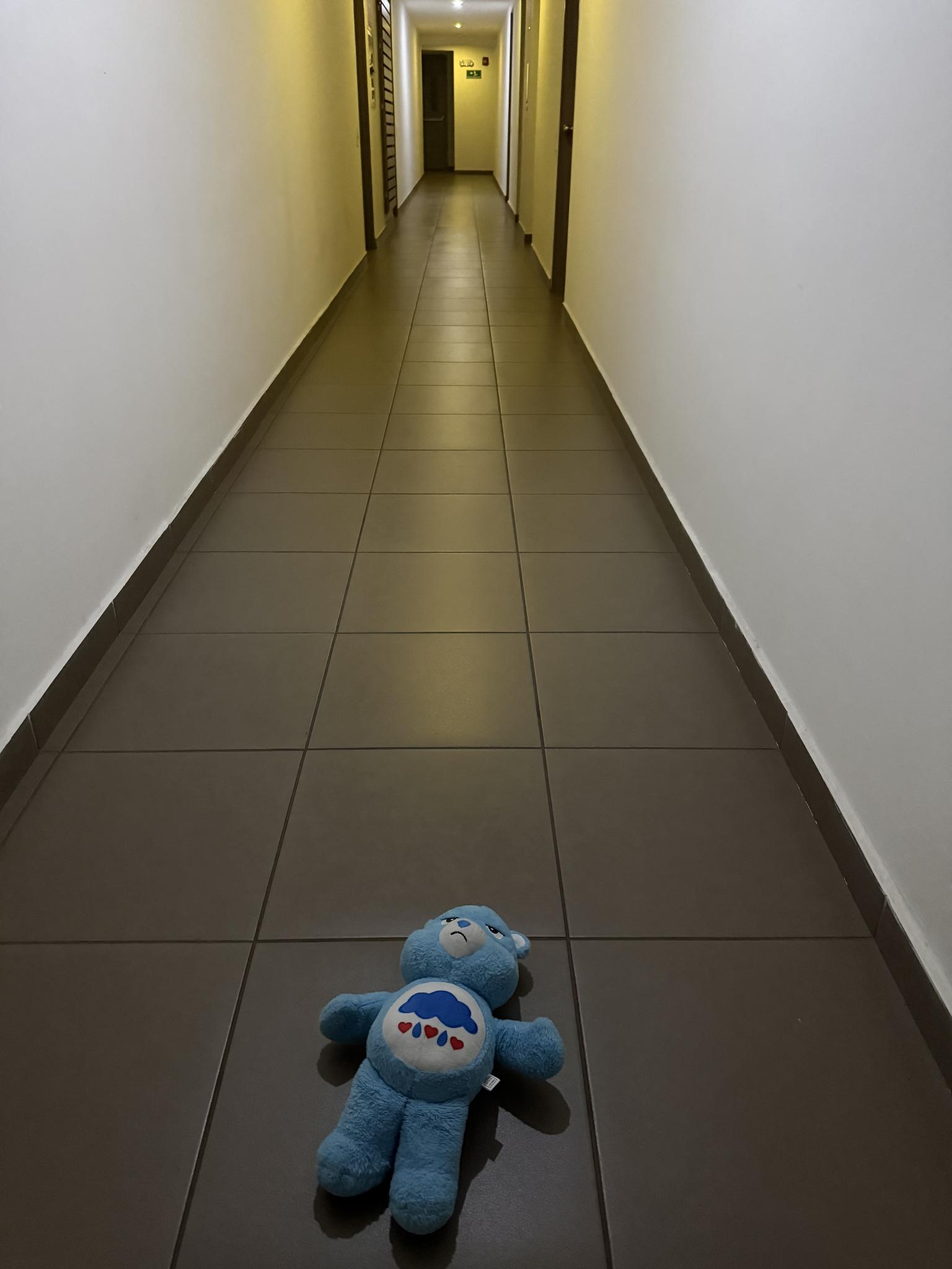peluche_Juan Jose: (300, 893, 564, 1253)
